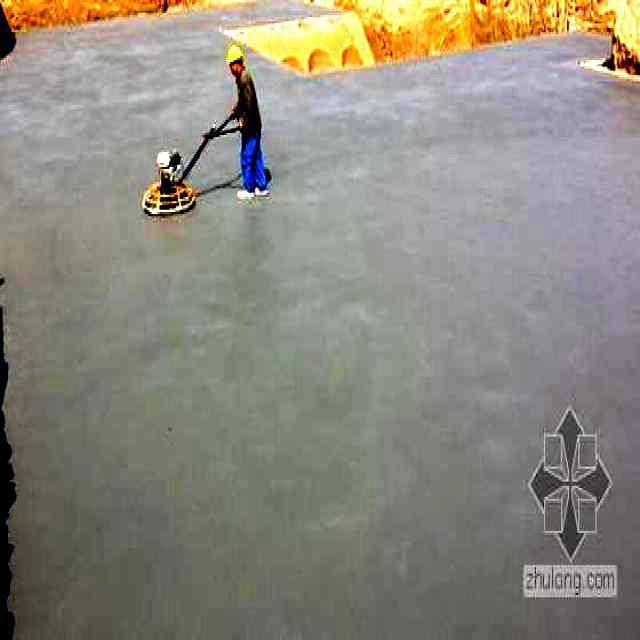hard_hat: (227, 45, 242, 66)
person: (227, 47, 270, 197)
